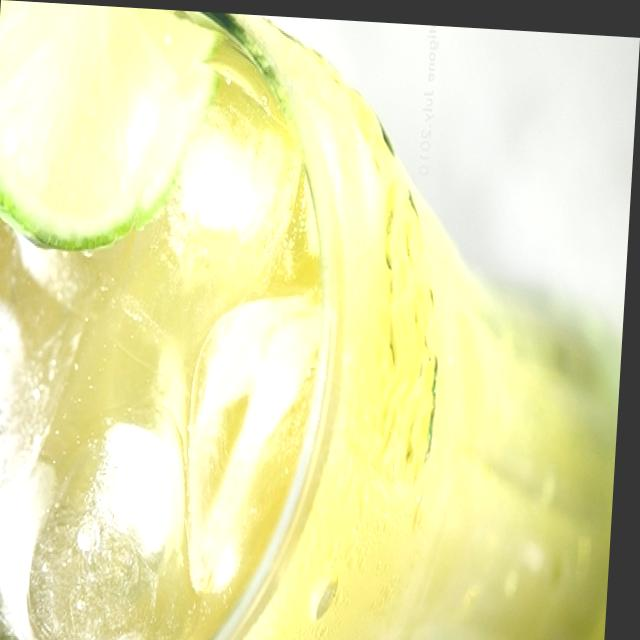蛋糕甜品: (0, 0, 594, 640)
